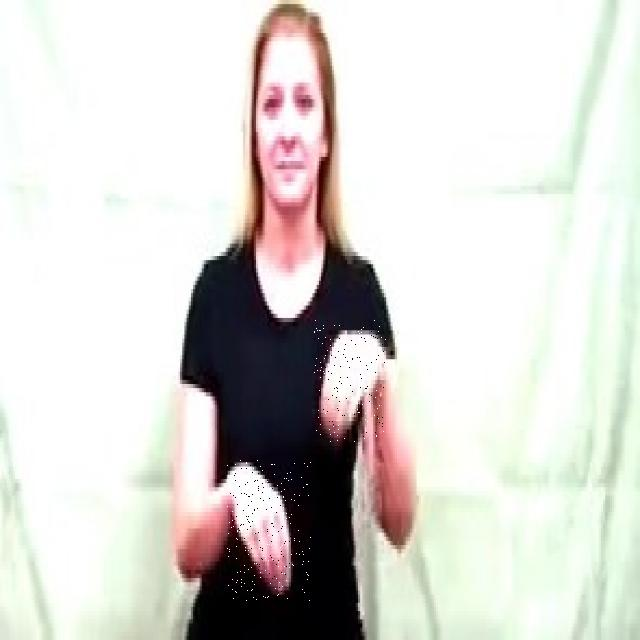ingredients: (228, 460, 312, 602), (314, 320, 386, 444)
